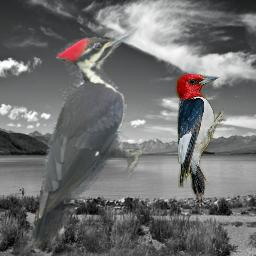Woodpecker: (20, 26, 147, 249), (173, 74, 228, 207)
